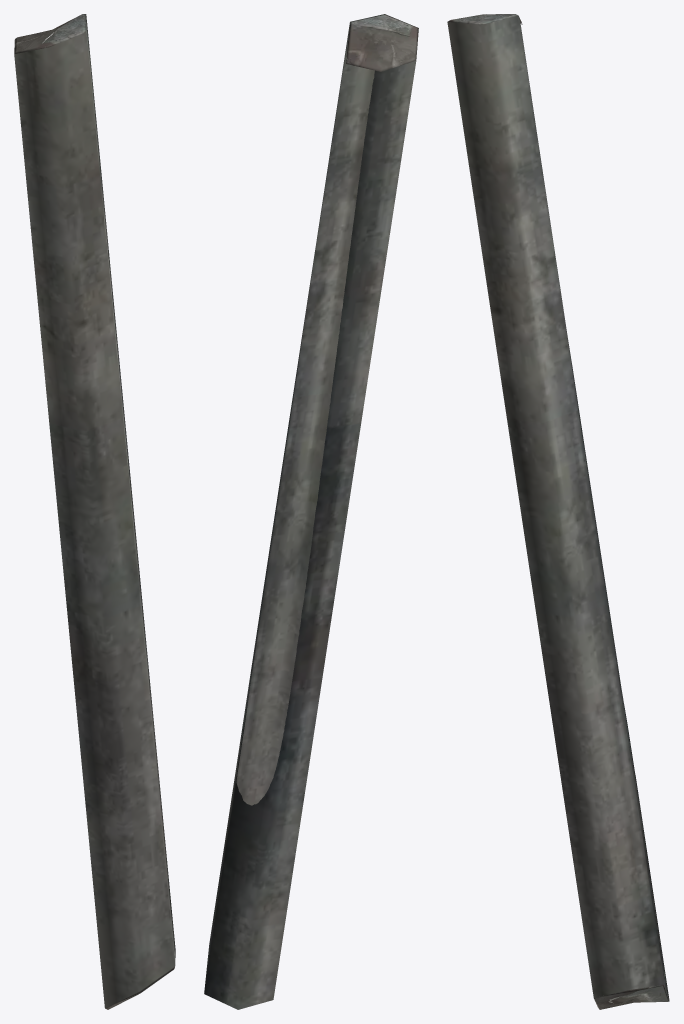
The picture shows the model from 3 angles, left to right: view 1: azimuth 30°, elevation 25°; view 2: azimuth 150°, elevation 25°; view 3: azimuth 330°, elevation 25°; orthographic projection. The views are drawn at different scales.
Parts seen in each view (by area): view 1: SM_SaradominTemple_Statue_01v12_LOD0; view 2: SM_SaradominTemple_Statue_01v12_LOD0; view 3: SM_SaradominTemple_Statue_01v12_LOD0.
Part boxes in pixels (bbox=[...]): SM_SaradominTemple_Statue_01v12_LOD0: bbox=[14, 14, 175, 1009]; SM_SaradominTemple_Statue_01v12_LOD0: bbox=[204, 14, 418, 1009]; SM_SaradominTemple_Statue_01v12_LOD0: bbox=[447, 14, 669, 1009].
Size of the model in its own units: 0.7515 by 3.88 by 0.4659.
2 materials, 2 textured.
